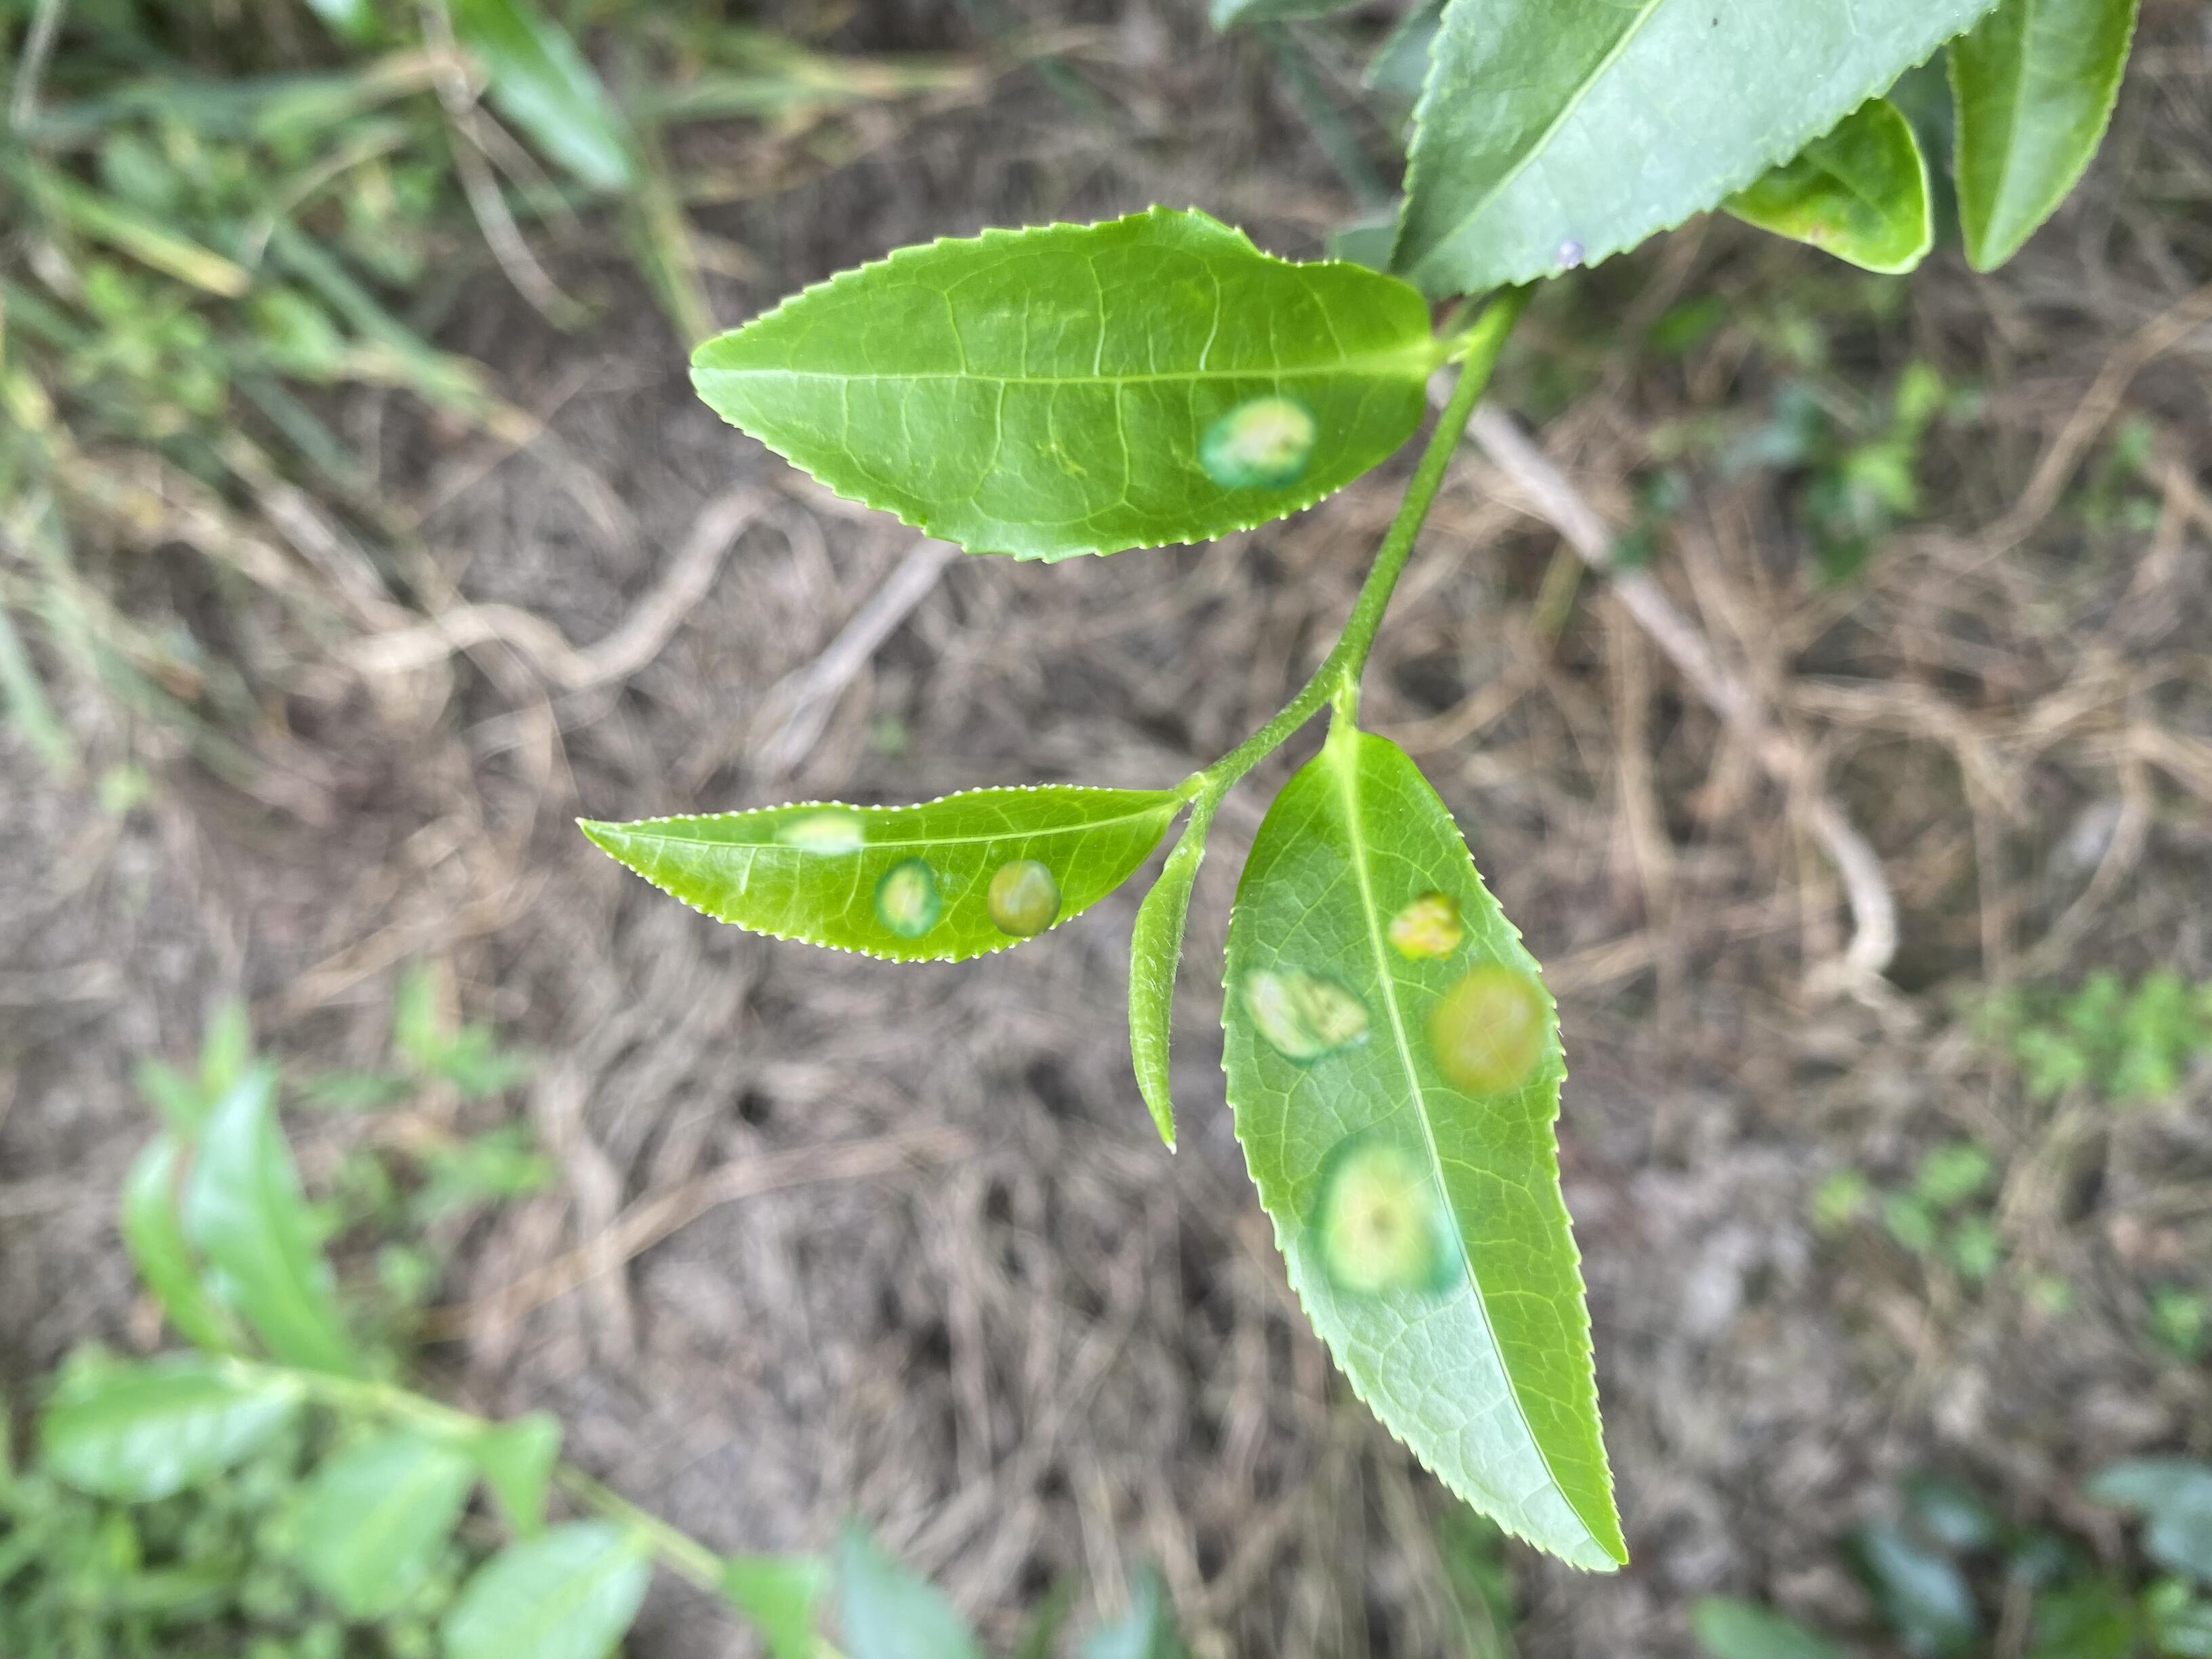chabing_high: (1216, 725, 1630, 1575), (578, 781, 1176, 964)
chabing_low: (690, 204, 1435, 561)
